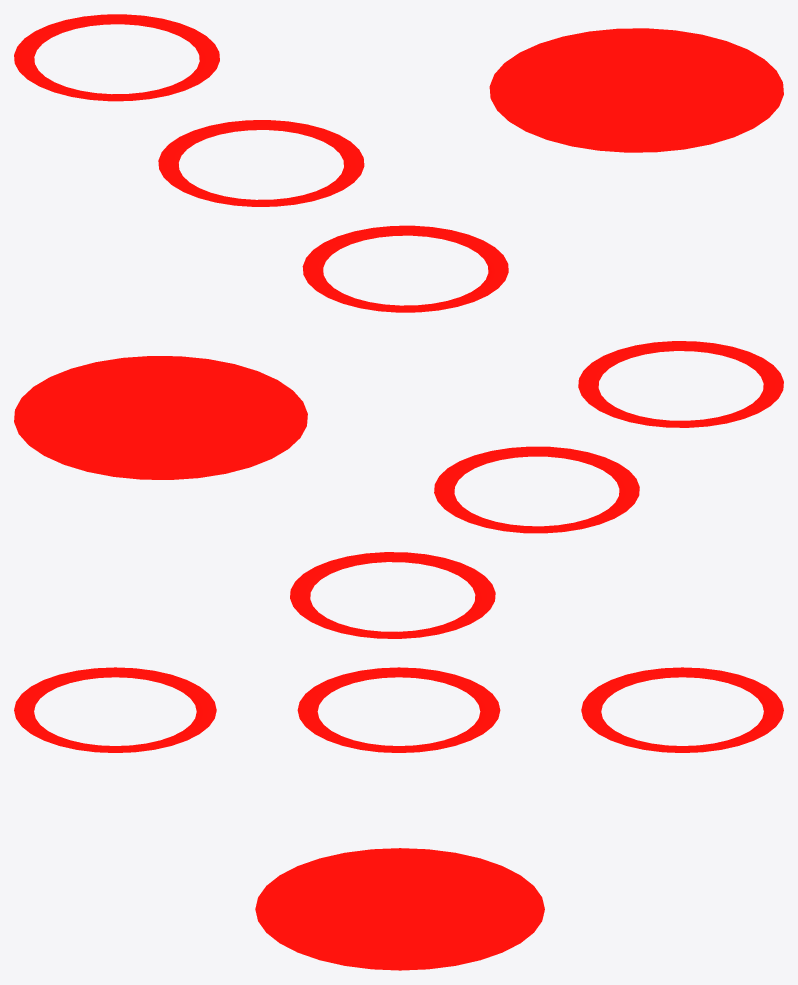
The model's file is Tower_Part2_01.fbx.
The picture shows the model from 3 angles, top to bottom: view 1: azimuth 30°, elevation 25°; view 2: azimuth 150°, elevation 25°; view 3: azimuth 270°, elevation 25°; orthographic projection.
Parts seen in each view (by area): view 1: Tower_Glow_parts; view 2: Tower_Glow_parts; view 3: Tower_Glow_parts.
Boxes of the visible parts, x1,y1,x2,y2 form: Tower_Glow_parts: (14,14,783,312); Tower_Glow_parts: (14,341,783,638); Tower_Glow_parts: (14,667,783,970).
Size of the model in its own units: 67.92 by 2.1 by 77.75.
